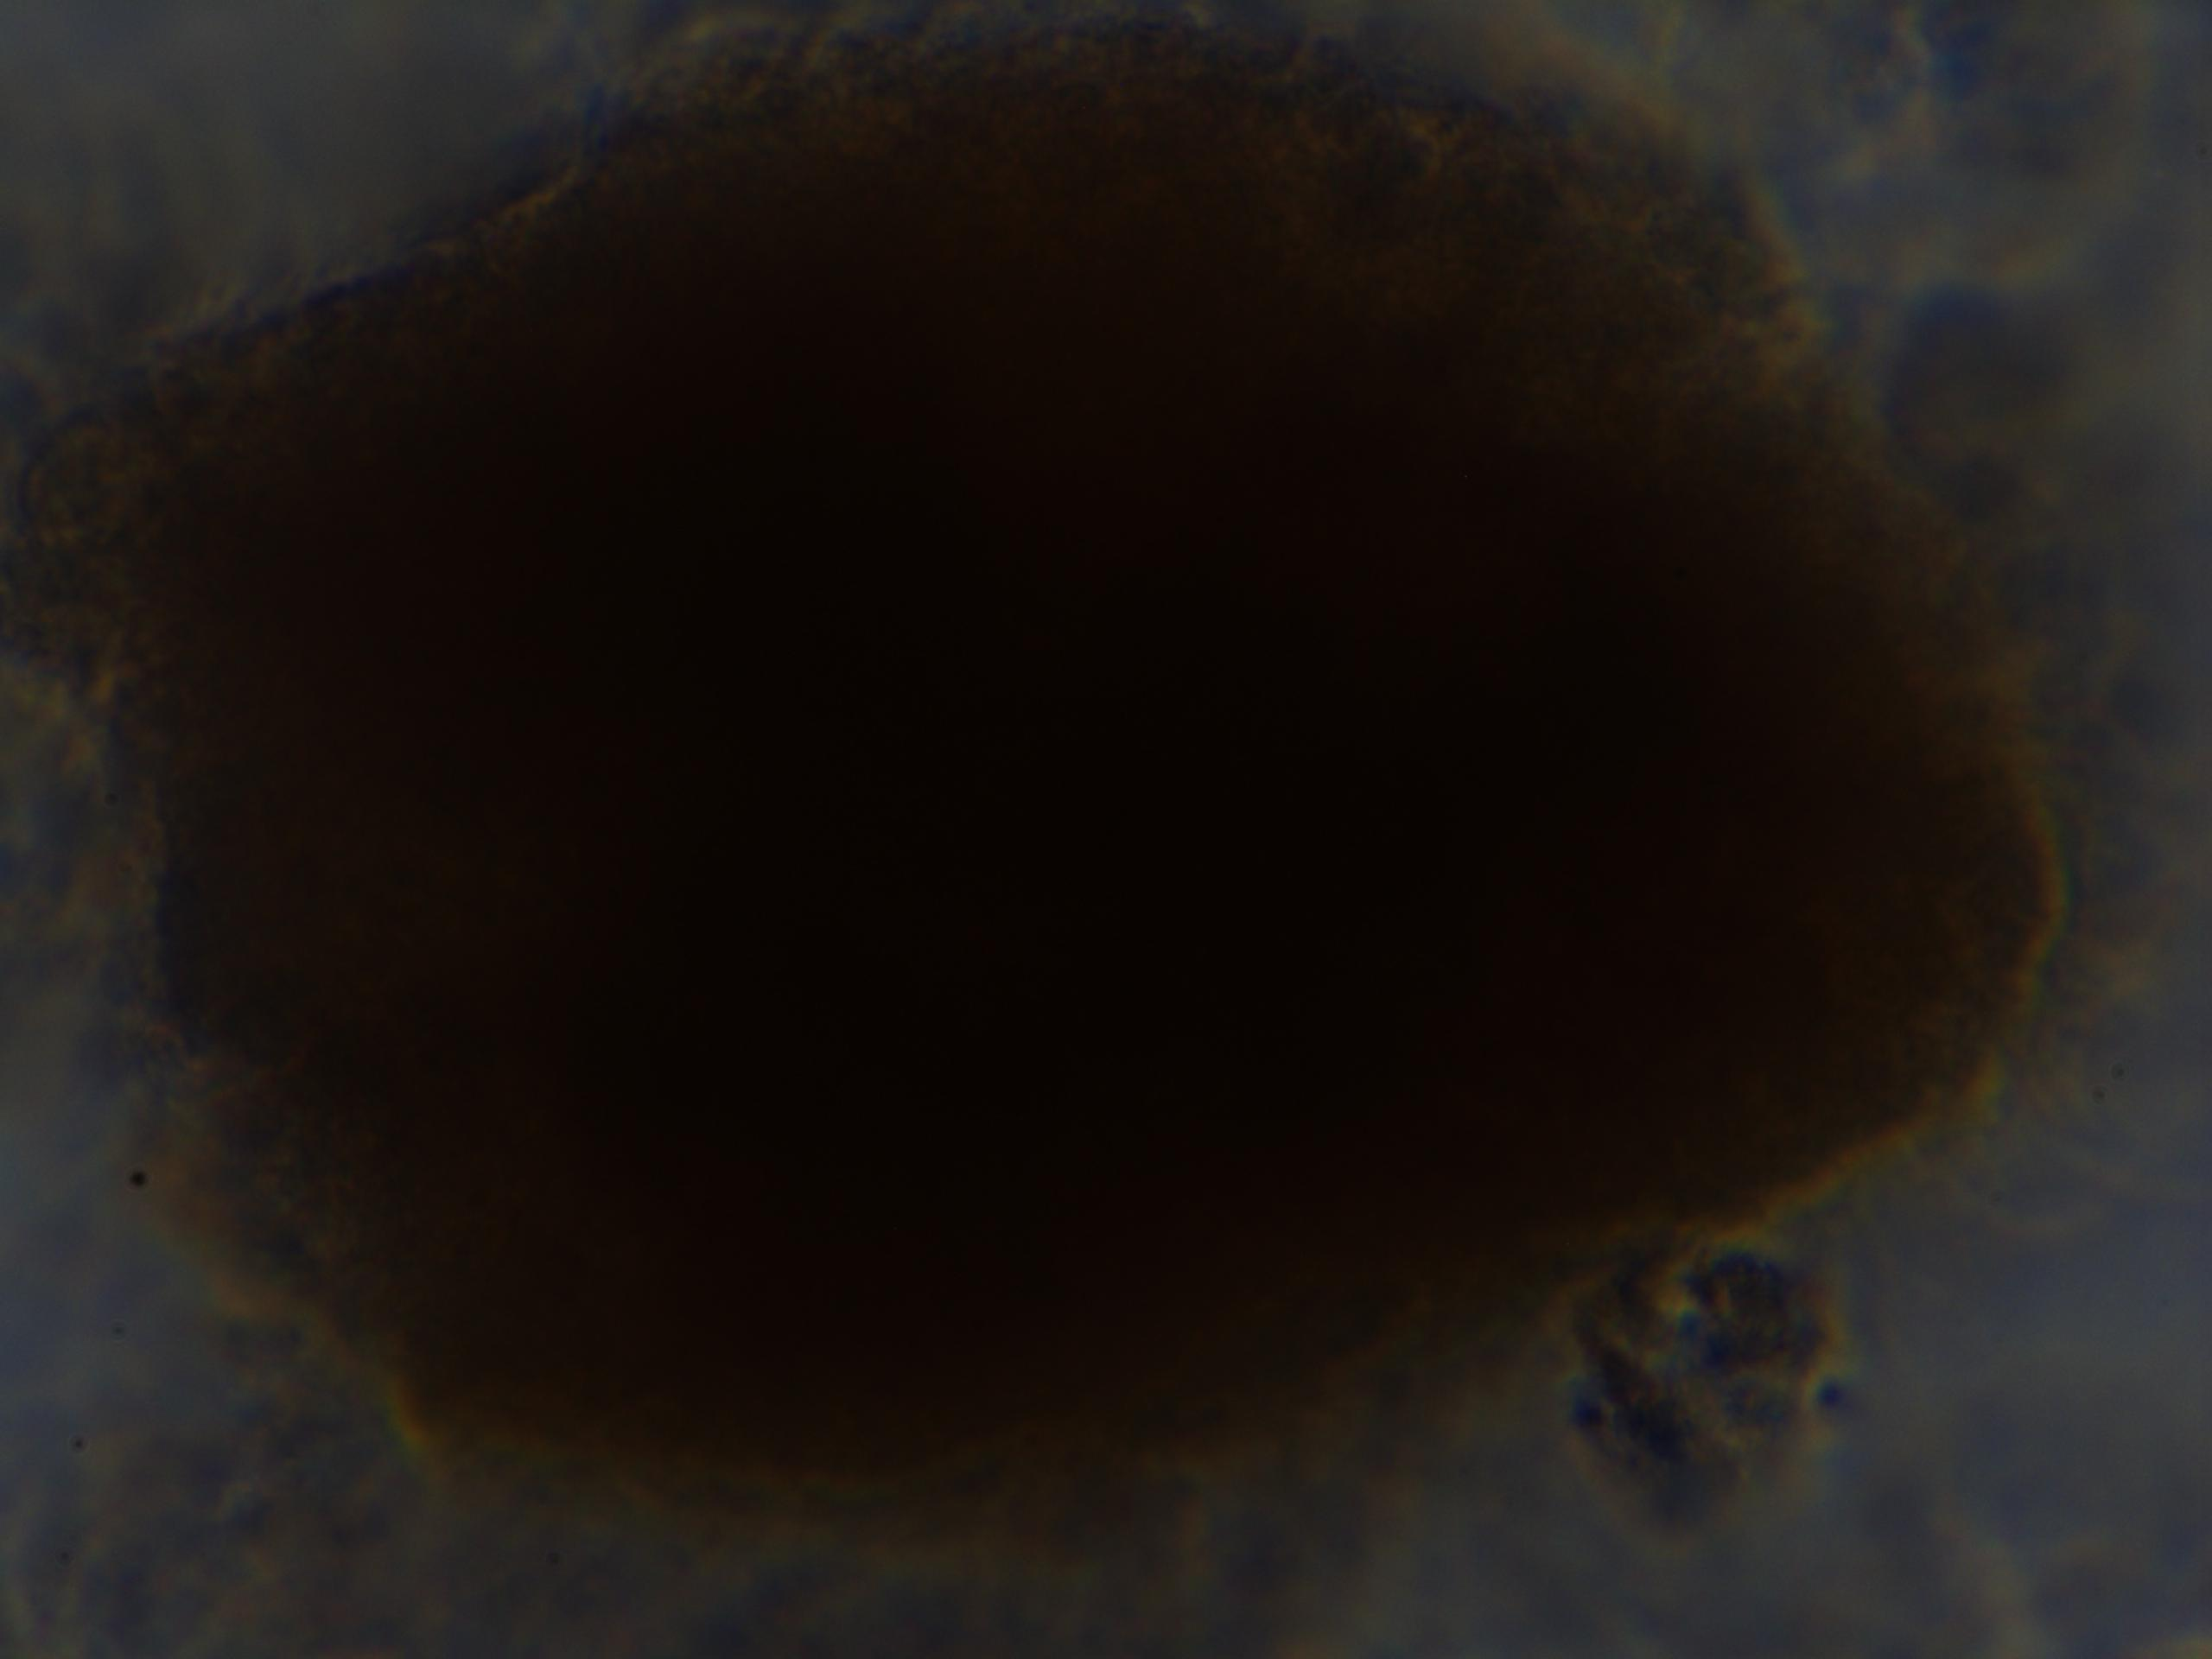spherical_floc: (23, 16, 2083, 1500)
